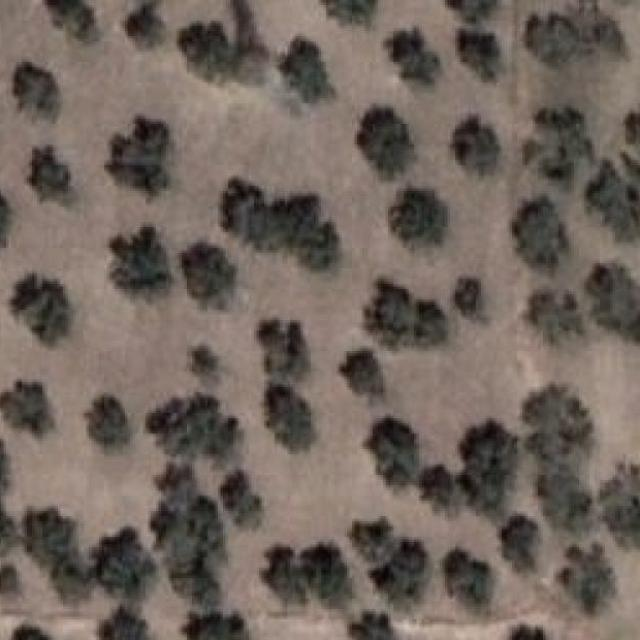Tree: (151, 462, 227, 611), (524, 384, 594, 534), (226, 184, 341, 270), (148, 398, 244, 467), (27, 509, 93, 604), (365, 279, 449, 348), (461, 420, 518, 518), (92, 526, 157, 604), (108, 117, 170, 194), (586, 163, 640, 247), (110, 227, 172, 296), (357, 106, 415, 179), (12, 274, 72, 344), (512, 196, 570, 266), (558, 545, 616, 615), (541, 105, 593, 183), (366, 418, 421, 490), (589, 261, 640, 338), (180, 18, 240, 82), (280, 36, 336, 103), (182, 242, 237, 310), (388, 189, 448, 248), (599, 464, 640, 549), (528, 10, 586, 69), (266, 386, 316, 452), (378, 542, 430, 604), (386, 29, 441, 84), (0, 380, 56, 434), (443, 550, 489, 614), (528, 292, 583, 345), (453, 116, 501, 176), (262, 542, 305, 608), (262, 322, 311, 379), (14, 62, 59, 124), (84, 396, 131, 454), (302, 542, 349, 596), (221, 469, 262, 528), (46, 0, 99, 43), (30, 148, 72, 201), (502, 514, 541, 571), (422, 465, 464, 516), (460, 29, 501, 81), (124, 0, 166, 47), (350, 513, 390, 561), (182, 611, 248, 640), (99, 606, 151, 640), (340, 354, 382, 396), (350, 611, 406, 640), (321, 0, 376, 25), (453, 277, 484, 320), (0, 498, 20, 552), (0, 438, 17, 496), (501, 624, 556, 640), (192, 346, 218, 377), (0, 180, 10, 247), (0, 564, 20, 596), (11, 629, 60, 640)
